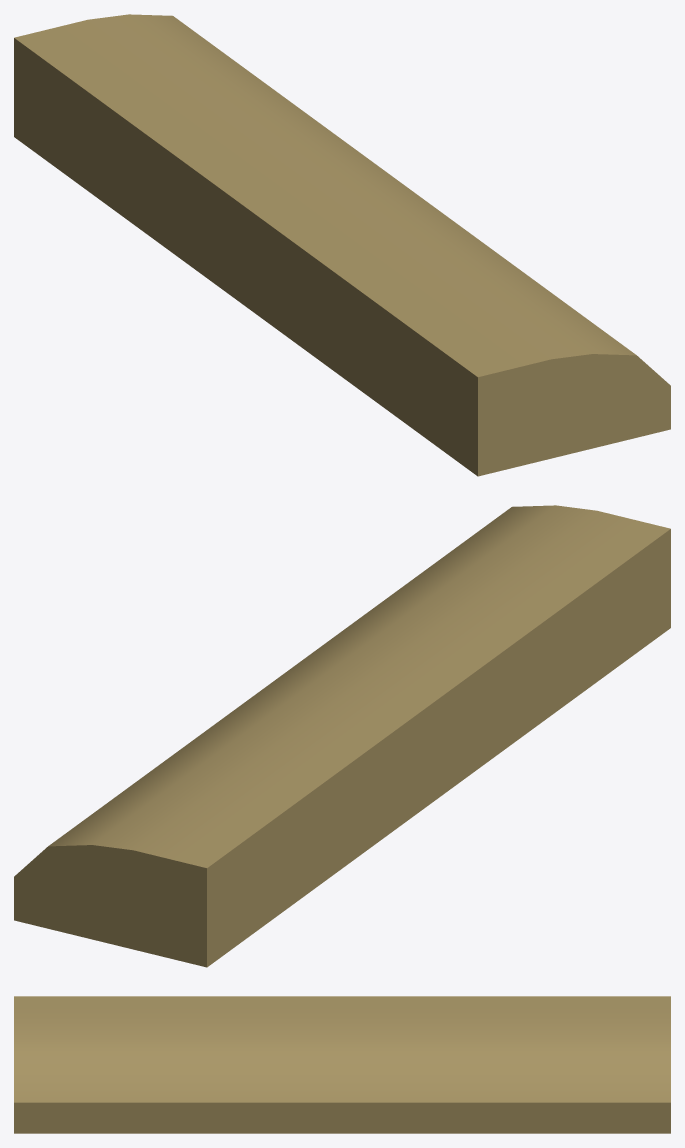
File: 7_Canopy.fbx
3 renders of one model, top to bottom at view 1: azimuth 30°, elevation 25°; view 2: azimuth 150°, elevation 25°; view 3: azimuth 270°, elevation 25°, orthographic. The views are drawn at different scales.
Visible parts, largest first — view 1: pasted__pCube28; view 2: pasted__pCube28; view 3: pasted__pCube28.
Boxes of the visible parts, bbox=[...] form: pasted__pCube28: bbox=[14, 14, 670, 476]; pasted__pCube28: bbox=[14, 505, 670, 967]; pasted__pCube28: bbox=[14, 996, 670, 1133].
Size of the model in its own units: 0.6803 by 0.3342 by 2.83.
